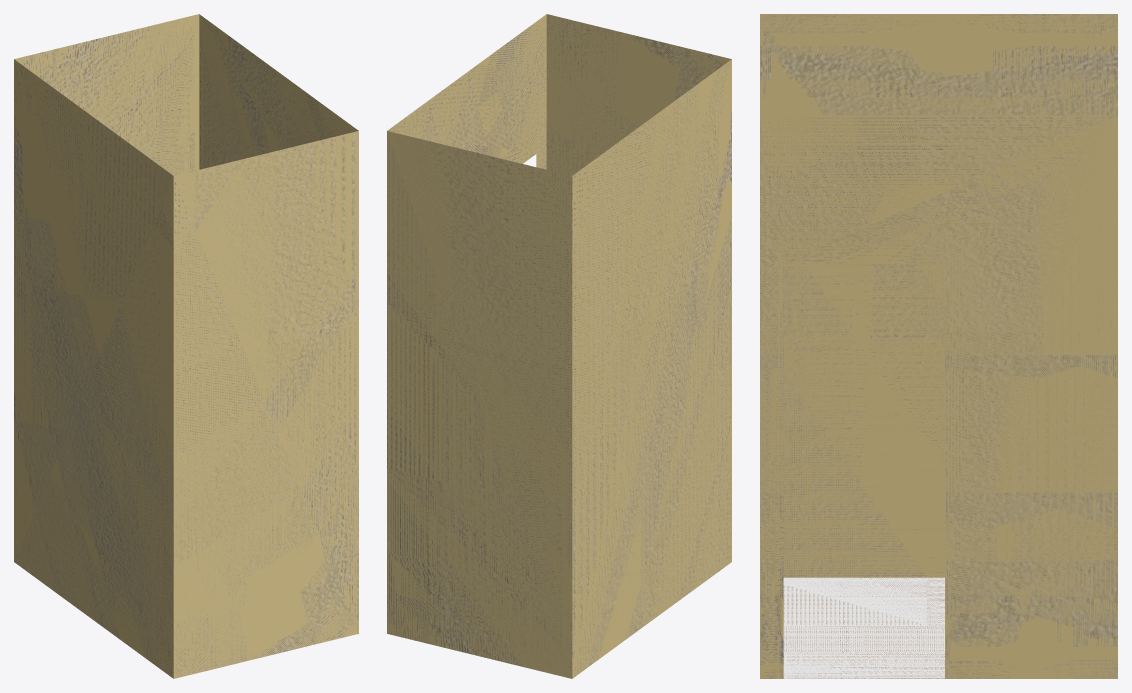
Rendered from CUA025.obj.
3 renders of one model, left to right at view 1: azimuth 30°, elevation 25°; view 2: azimuth 150°, elevation 25°; view 3: azimuth 270°, elevation 25°, orthographic. The views are drawn at different scales.
Parts seen in each view (by area): view 1: Mesh1 CUA025 Model; view 2: Mesh1 CUA025 Model; view 3: Mesh1 CUA025 Model.
Part boxes in pixels (box(x1,y1,x2,y2)): Mesh1 CUA025 Model: box(14, 14, 358, 678); Mesh1 CUA025 Model: box(387, 14, 731, 678); Mesh1 CUA025 Model: box(760, 14, 1117, 678).
Size of the model in its own units: 1.15 by 2.98 by 1.71.
Materials: 4 (2 with a texture image).
